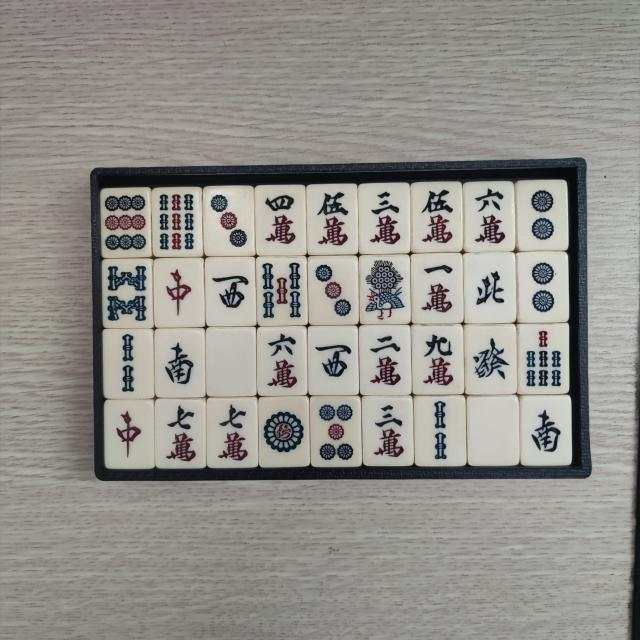hdg: (470, 328, 513, 390)
hdr: (158, 262, 198, 324), (109, 404, 148, 464)
hdw: (210, 332, 250, 392), (474, 400, 514, 460)
hwn: (470, 258, 511, 317)
hws: (526, 401, 566, 462), (160, 333, 200, 393)
hww: (211, 260, 253, 322), (312, 330, 354, 390)
sb1: (363, 258, 408, 321)
sb2: (422, 398, 464, 463), (106, 330, 148, 394)
sb5: (261, 260, 304, 322)
sb7: (522, 327, 564, 390)
sb8: (104, 262, 148, 325)
sb9: (156, 190, 198, 253)
sc1: (416, 257, 458, 318)
sc2: (365, 330, 407, 390)
sc3: (364, 187, 406, 248), (368, 399, 408, 462)
sc4: (261, 189, 302, 250)
sc5: (416, 186, 458, 247), (312, 188, 354, 249)
sc6: (469, 186, 510, 248), (262, 331, 302, 392)
sc7: (212, 402, 254, 464), (160, 402, 200, 464)
sc9: (418, 329, 460, 391)
sd1: (262, 401, 306, 464)
sd2: (522, 256, 562, 320), (523, 185, 563, 246)
sd3: (207, 190, 250, 252), (312, 259, 354, 320)
sd5: (314, 401, 356, 464)
sd9: (106, 192, 150, 254)
